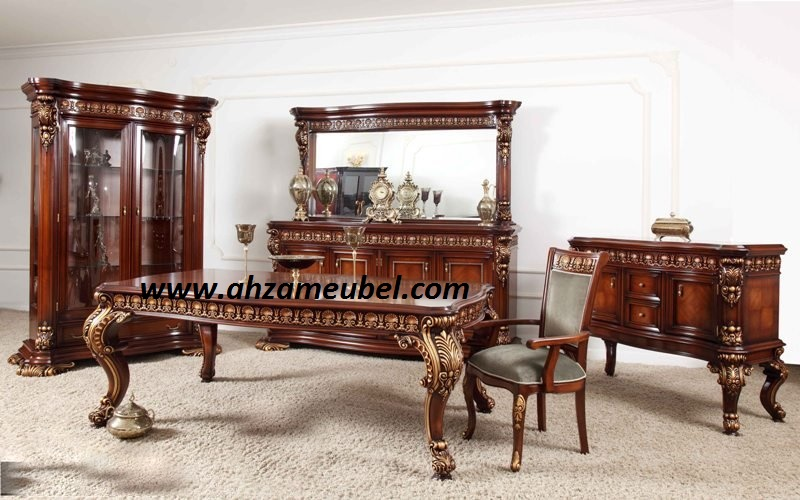Carving Chair: (494, 248, 605, 475)
Carving Table: (83, 263, 490, 450)
